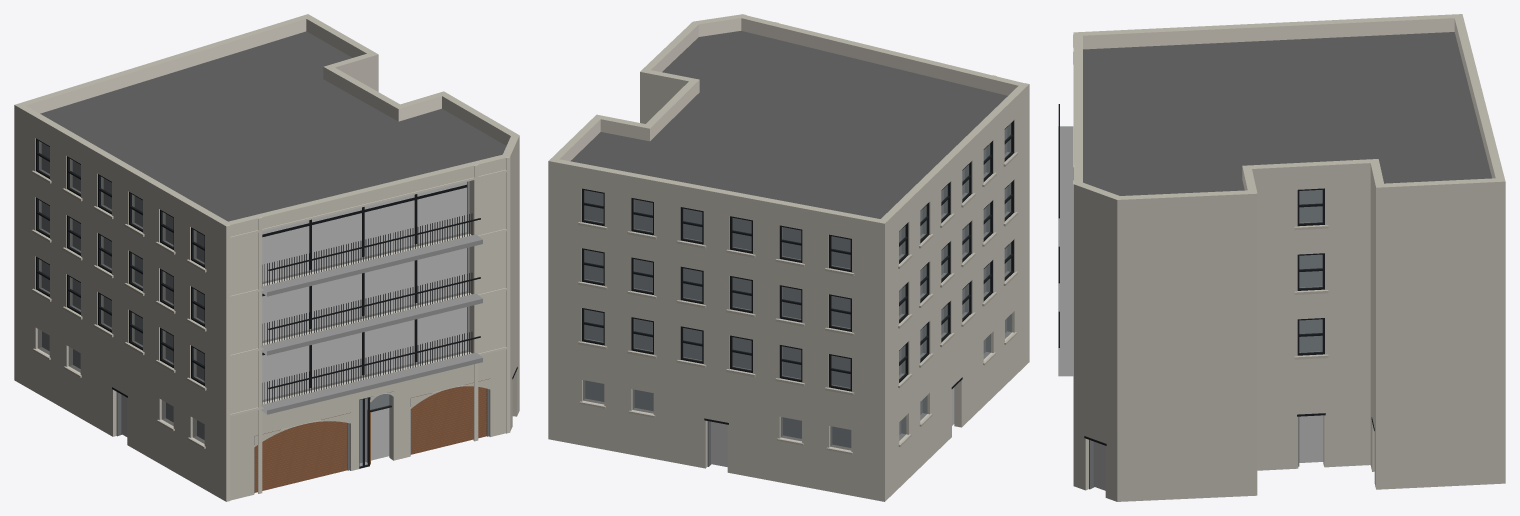
The model's file is exterior.glb.
3 views of the same model, side by side, from view 1: azimuth 30°, elevation 25°; view 2: azimuth 150°, elevation 25°; view 3: azimuth 270°, elevation 25° (orthographic). The views are drawn at different scales.
Visible parts, largest first — view 1: shell, roof, shadow-proxy, storefront, glazing, relief-1, frames, trim, hyC-arches-1; view 2: shell, roof, glazing, shadow-proxy, frames, trim; view 3: shell, roof, storefront, shadow-proxy, glazing, frames.
Boxes of the visible parts, x1=… form: shell: x1=14, y1=14, x2=519, y2=501; roof: x1=40, y1=31, x2=506, y2=221; shadow-proxy: x1=42, y1=143, x2=466, y2=462; storefront: x1=112, y1=181, x2=517, y2=493; glazing: x1=38, y1=141, x2=391, y2=466; relief-1: x1=226, y1=157, x2=510, y2=501; frames: x1=36, y1=138, x2=467, y2=387; trim: x1=31, y1=170, x2=206, y2=448; hyC-arches-1: x1=254, y1=379, x2=490, y2=446; shell: x1=548, y1=14, x2=1028, y2=501; roof: x1=570, y1=31, x2=1007, y2=218; glazing: x1=583, y1=123, x2=1011, y2=450; shadow-proxy: x1=585, y1=128, x2=1006, y2=466; frames: x1=582, y1=120, x2=1013, y2=391; trim: x1=578, y1=152, x2=1017, y2=454; shell: x1=1074, y1=14, x2=1505, y2=501; roof: x1=1083, y1=32, x2=1491, y2=195; storefront: x1=1058, y1=104, x2=1374, y2=489; shadow-proxy: x1=1093, y1=190, x2=1323, y2=490; glazing: x1=1299, y1=190, x2=1322, y2=352; frames: x1=1297, y1=188, x2=1324, y2=355.
Bounding box in the file's own units: 16.77 × 12.73 × 17.04.
